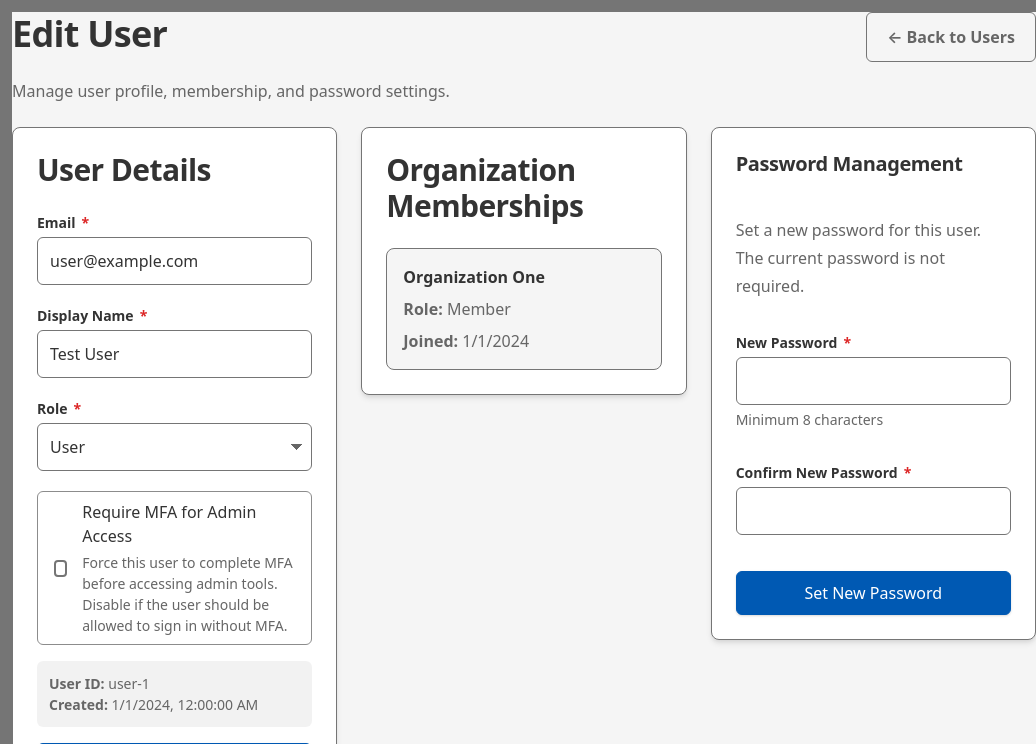
Scenario: AdminUserDetailPage › Password Management › successfully sets password with valid inputs
Check: the form with test id "admin-password-set-form" is shown, box [736,200,1011,615]
Fill in the form
Type "NewPassword456!" into the password field with test id "new-password-input" at (873, 381), box [736,357,1011,405]
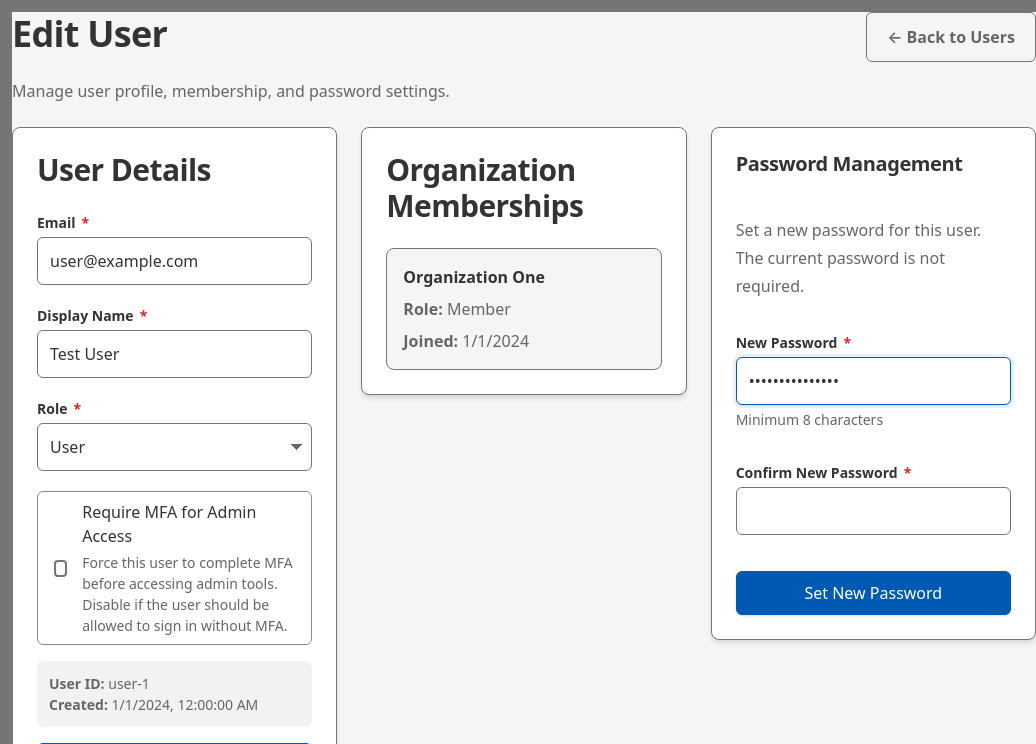
Type "NewPassword456!" into the password field with test id "confirm-password-input" at (873, 511), box [736,487,1011,535]
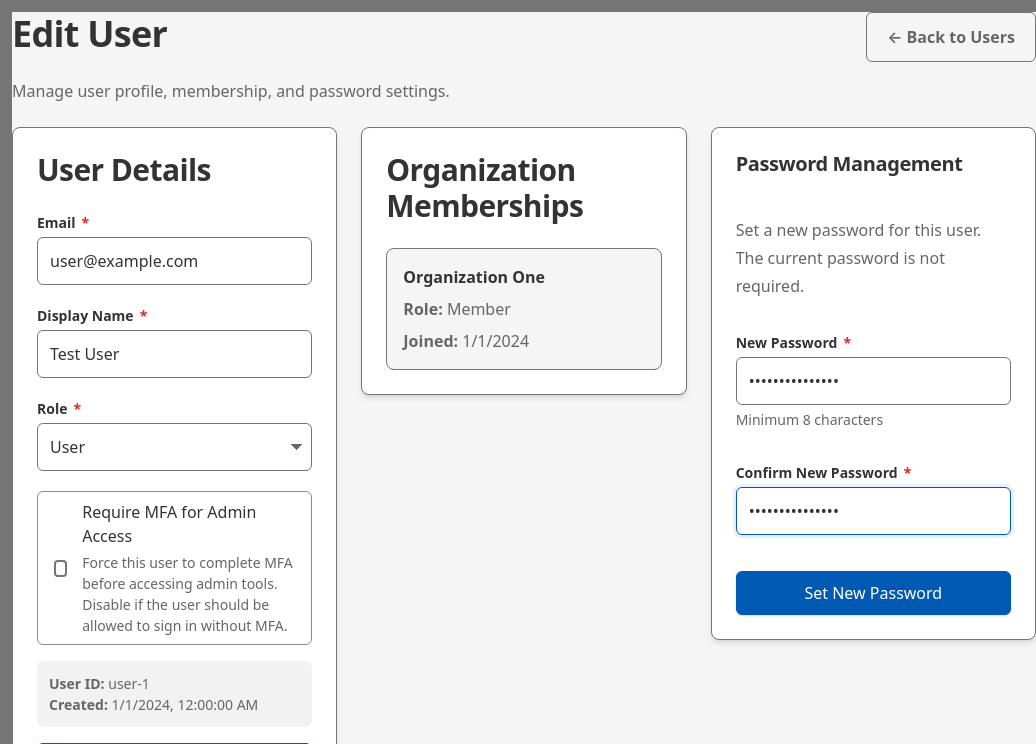
Click the button with test id "set-password-button" at (873, 593), box [736,571,1011,615]
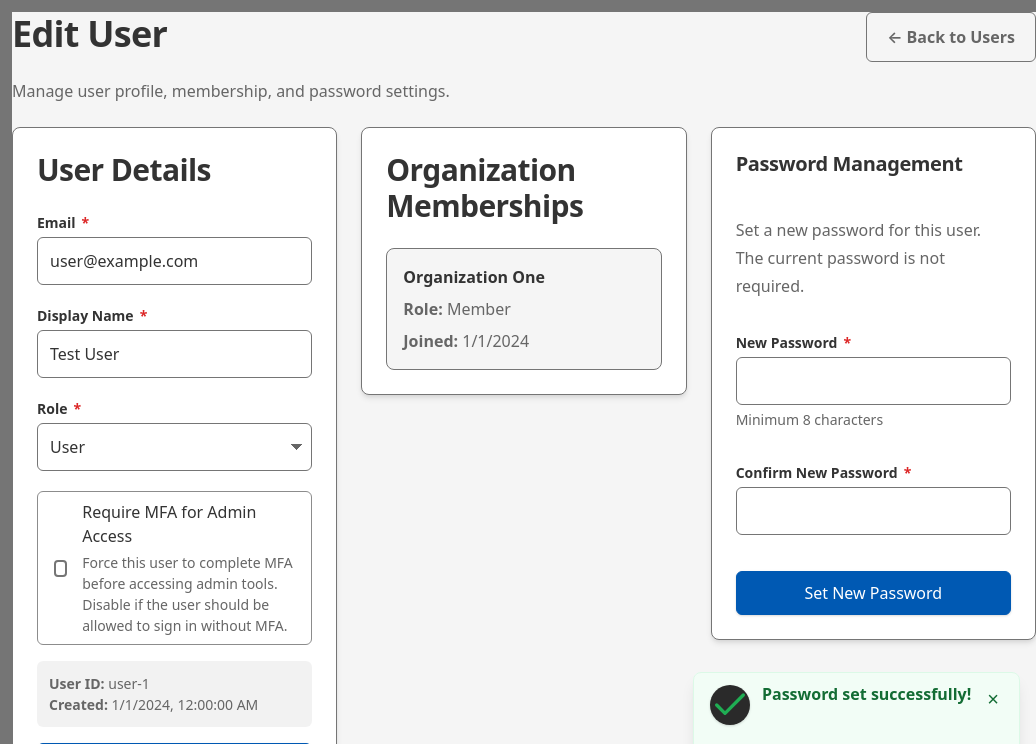
Check: the text "Password set successfully!" is shown, box [762,685,971,705]
Check: the password field with test id "new-password-input" is empty, box [736,357,1011,405]
Check: the password field with test id "confirm-password-input" is empty, box [736,487,1011,535]
